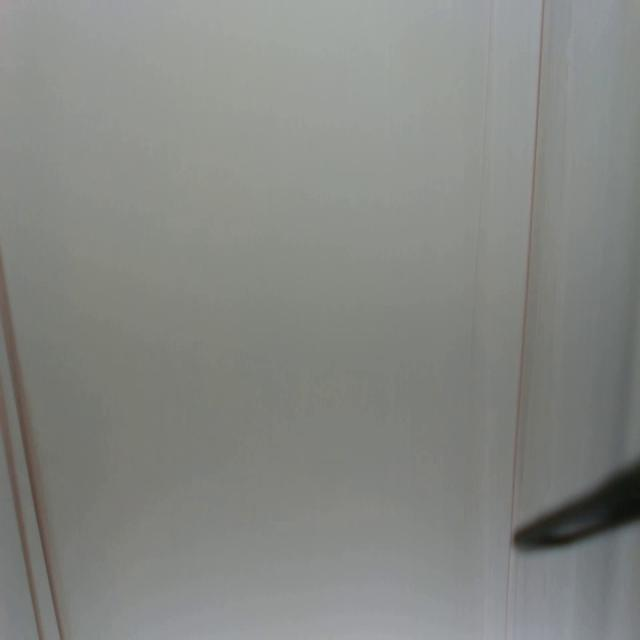crease: (0, 253, 62, 640), (511, 1, 546, 512), (466, 2, 493, 344), (2, 417, 41, 637), (502, 516, 515, 638)
